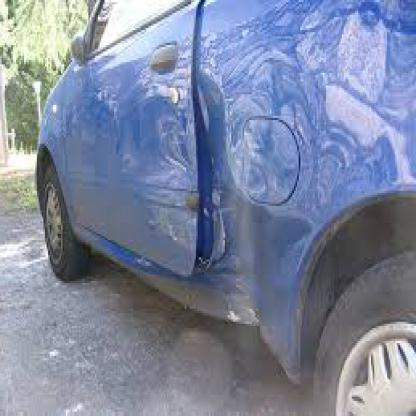dent: (186, 3, 414, 186)
